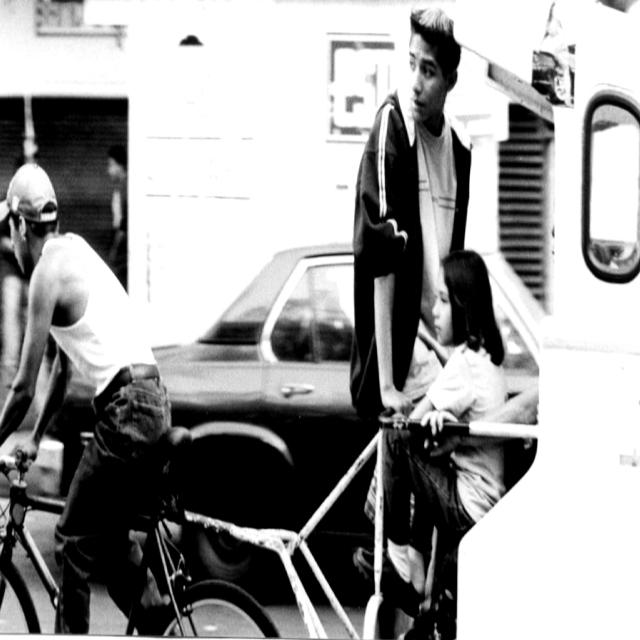car: (40, 239, 546, 587)
